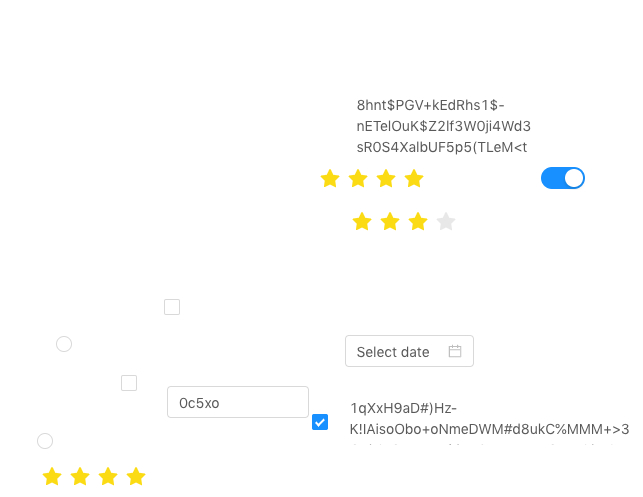Checkbox: (312, 411, 328, 432), (121, 372, 137, 393), (164, 296, 180, 317)
DatePicker: (345, 335, 474, 367)
Input: (167, 386, 309, 418)
Radio: (37, 430, 53, 450), (56, 333, 72, 353)
Rate: (320, 162, 440, 194), (42, 460, 162, 492), (352, 205, 472, 237)
Switch: (541, 166, 585, 190)
Text: (350, 397, 633, 445), (357, 94, 532, 161)
